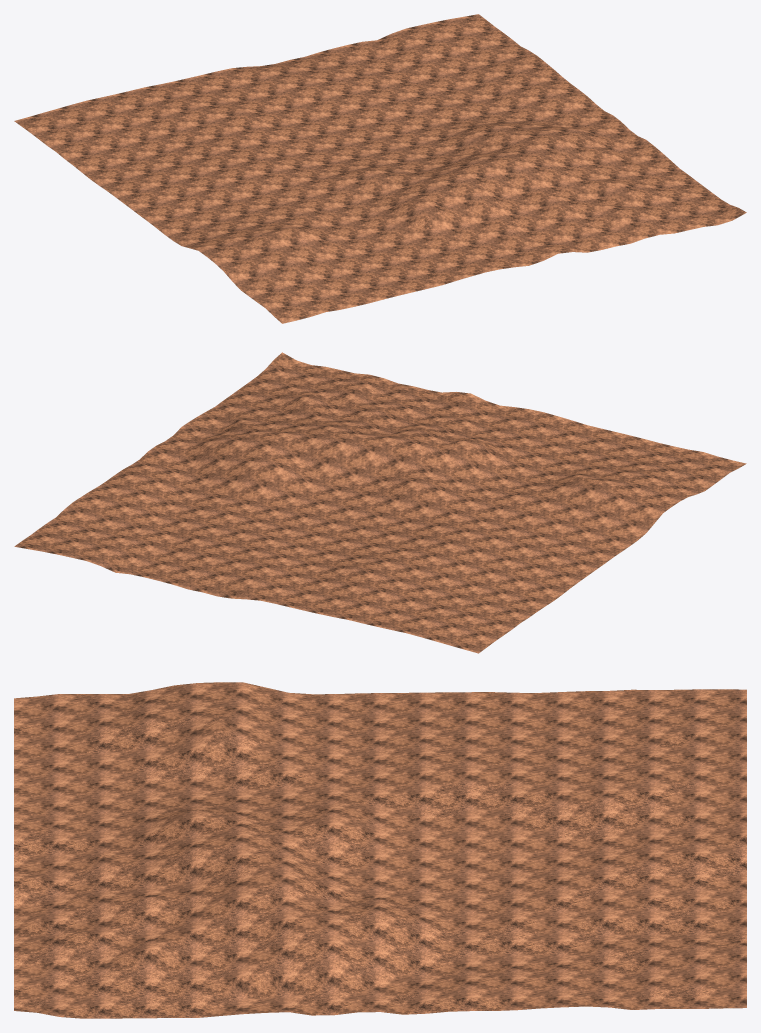
The model's file is terrain_01_02.dae.
3 views of the same model, one above another, from view 1: azimuth 30°, elevation 25°; view 2: azimuth 150°, elevation 25°; view 3: azimuth 270°, elevation 25° (orthographic). The views are drawn at different scales.
Visible parts, largest first — view 1: terrain_01_02-node; view 2: terrain_01_02-node; view 3: terrain_01_02-node.
Boxes of the visible parts, left/top/right/bottom form: terrain_01_02-node: left=14, top=14, right=746, bottom=323; terrain_01_02-node: left=14, top=352, right=746, bottom=653; terrain_01_02-node: left=14, top=682, right=746, bottom=1018.
Size of the model in its own units: 128 by 128 by 7.44.
1 material, 1 textured.
